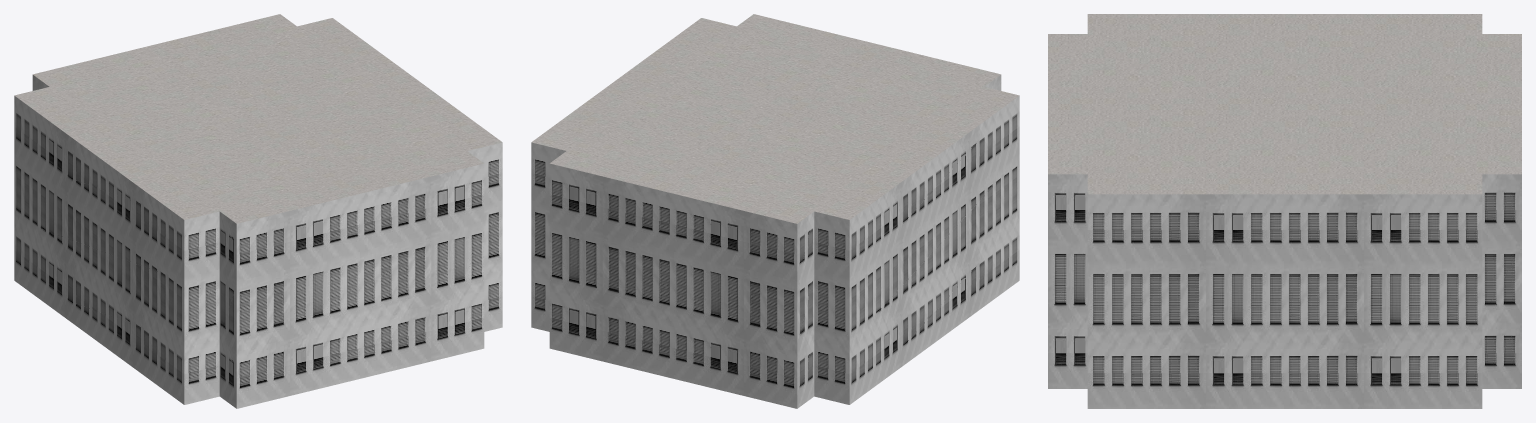
File: building_034.glb
3 renders of one model, left to right at view 1: azimuth 30°, elevation 25°; view 2: azimuth 150°, elevation 25°; view 3: azimuth 270°, elevation 25°, orthographic. The views are drawn at different scales.
Visible parts, largest first — view 1: building_034.001; view 2: building_034.001; view 3: building_034.001.
Part boxes in pixels (x1,y1,x2,y2): building_034.001: (14, 14, 502, 408); building_034.001: (531, 14, 1019, 408); building_034.001: (1048, 14, 1521, 408).
Bounding box in the file's own units: 13.5 × 7.5 × 15.
Materials: 2 (2 with a texture image).
